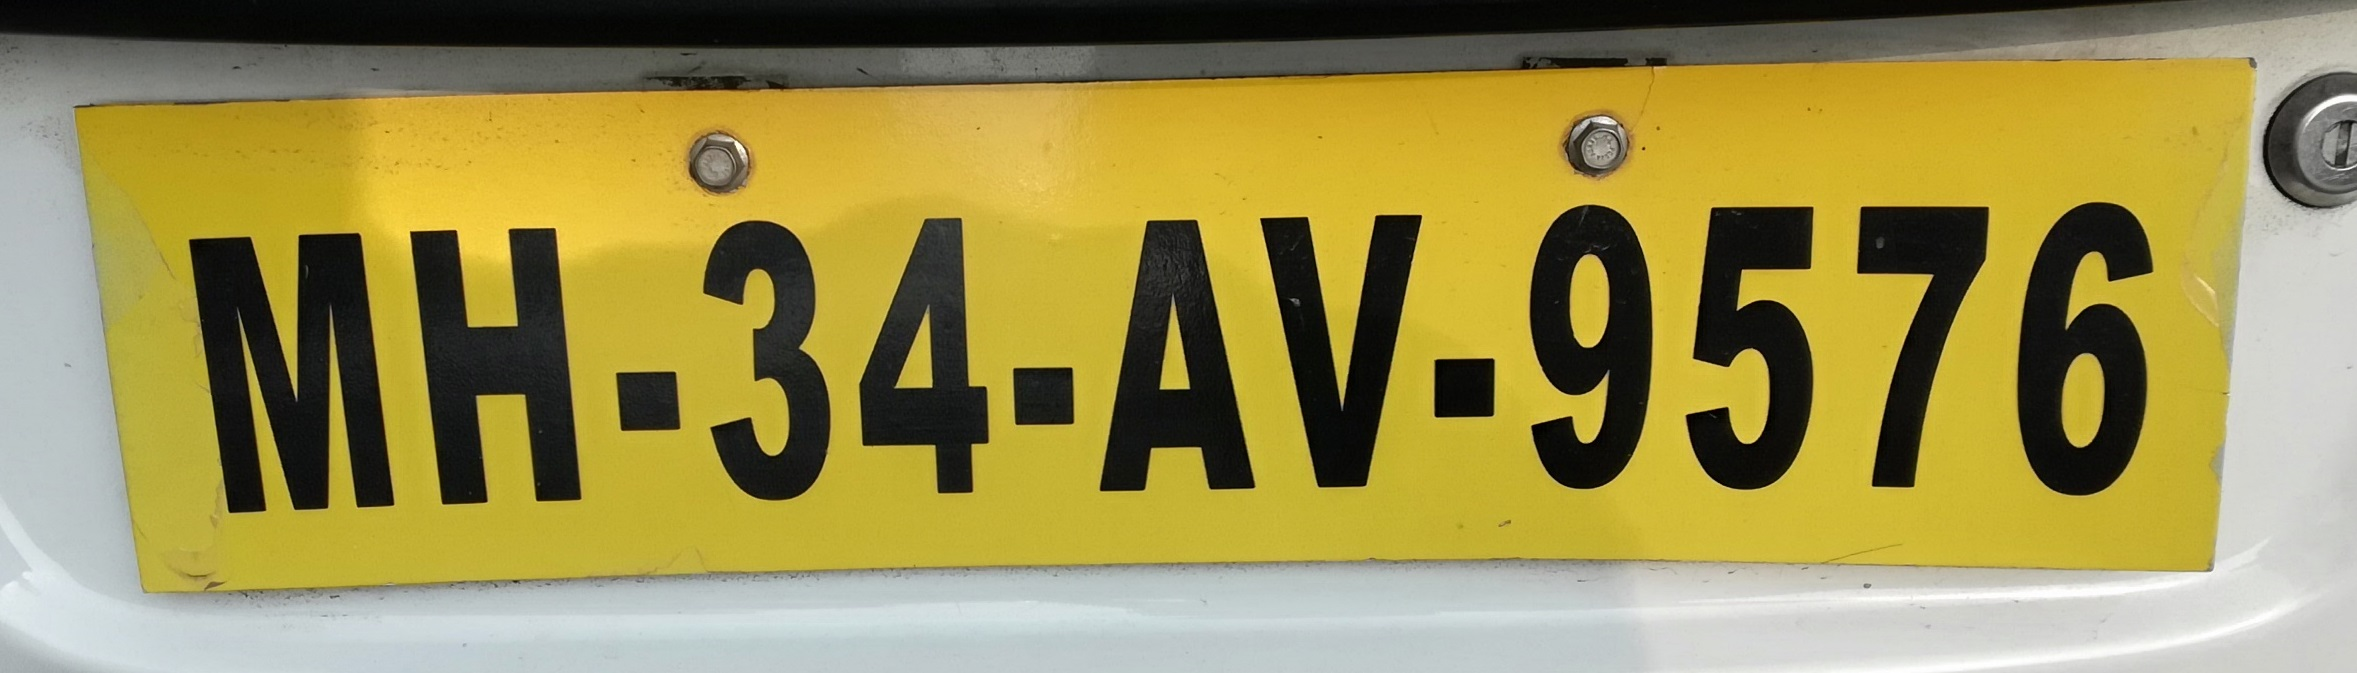numberplate: (68, 46, 2262, 596)
